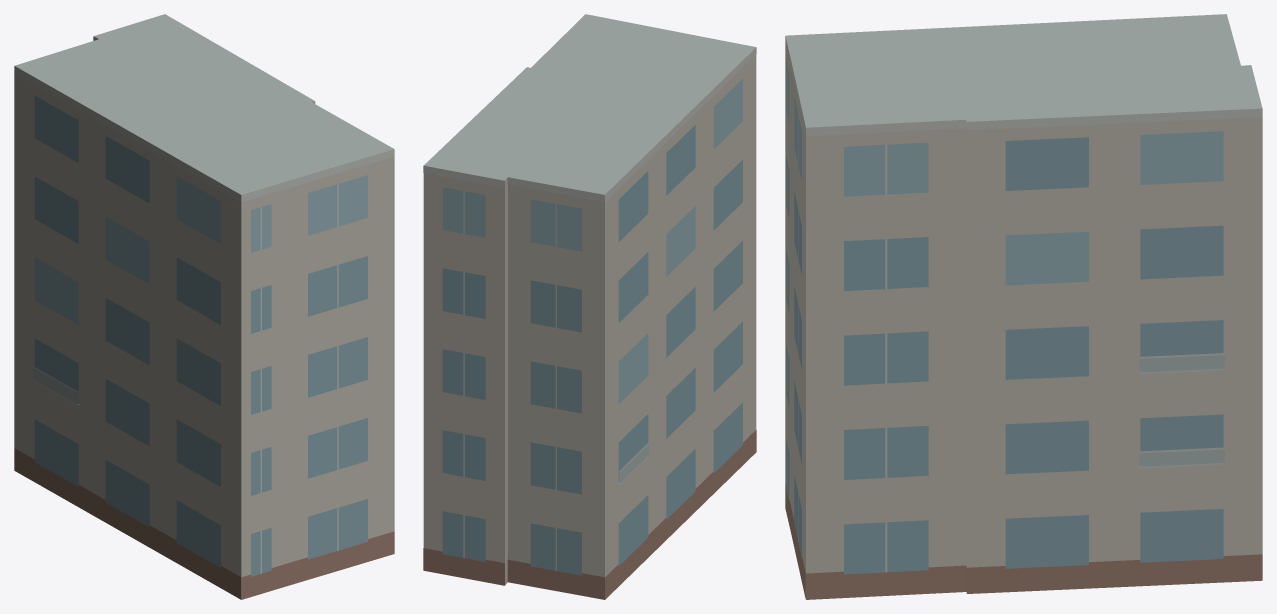
The model's file is survey-upis-32614178.glb.
The picture shows the model from 3 angles, left to right: view 1: azimuth 30°, elevation 25°; view 2: azimuth 150°, elevation 25°; view 3: azimuth 270°, elevation 25°; orthographic projection. The views are drawn at different scales.
Visible parts, largest first — view 1: survey-upis-32614178.tmp; view 2: survey-upis-32614178.tmp; view 3: survey-upis-32614178.tmp.
Part boxes in pixels (x1,y1,x2,y2): survey-upis-32614178.tmp: (14, 14, 394, 599); survey-upis-32614178.tmp: (423, 14, 756, 599); survey-upis-32614178.tmp: (785, 14, 1262, 599).
Bounding box in the file's own units: 7.03 × 13.6 × 12.47.
